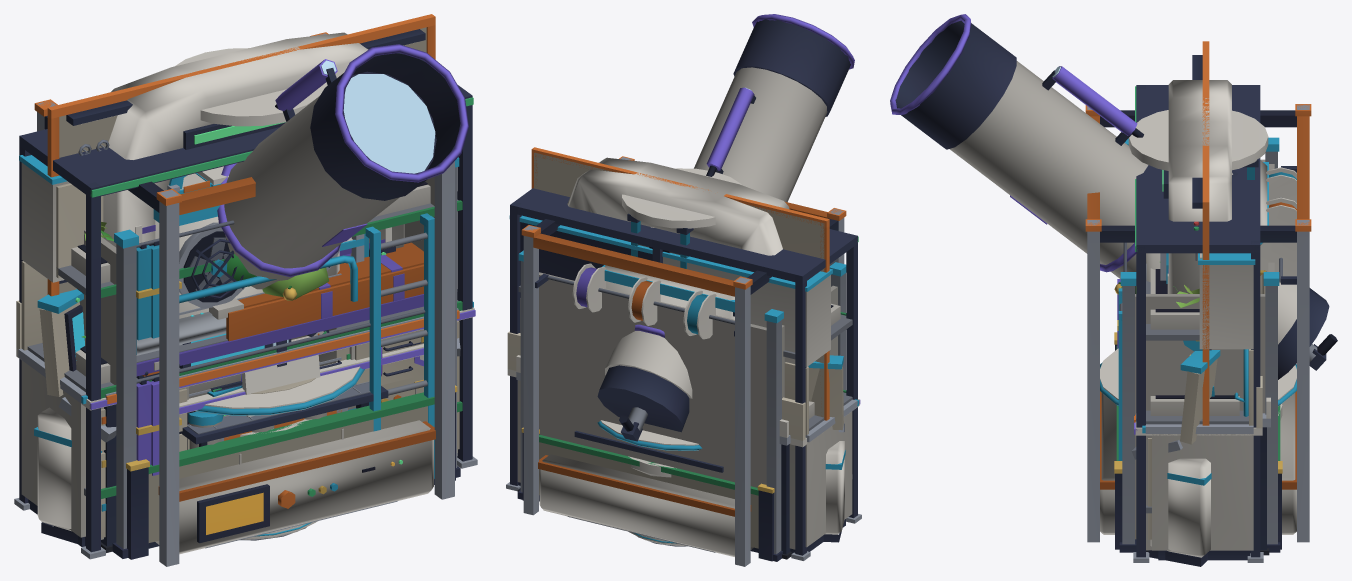
The model's file is interior_low.glb.
The picture shows the model from 3 angles, left to right: view 1: azimuth 30°, elevation 25°; view 2: azimuth 150°, elevation 25°; view 3: azimuth 270°, elevation 25°; orthographic projection. The views are drawn at different scales.
Parts seen in each view (by area): view 1: printer_3d, telescope, bunk_bed, plant_rack, airlock_door, galley, garden_bed, cockpit_console, tool_wall, air_machine, workbench, table_round (+7 smaller); view 2: printer_3d, bunk_bed, telescope, plant_rack, galley, airlock_door, tool_wall, garden_bed, cockpit_console, hatch_ladder, lab_bench, air_machine (+2 smaller); view 3: telescope, printer_3d, plant_rack, galley, bunk_bed, airlock_door, cockpit_console, hatch_ladder, tool_wall, garden_bed, table_round, workbench (+2 smaller).
Boxes of the visible parts, x1,y1,x2,y2 form: printer_3d: (34, 32, 454, 566); telescope: (217, 44, 468, 289); bunk_bed: (77, 157, 460, 558); plant_rack: (14, 85, 477, 559); airlock_door: (103, 32, 404, 257); galley: (18, 155, 473, 546); garden_bed: (126, 379, 457, 559); cockpit_console: (34, 289, 460, 546); tool_wall: (47, 14, 435, 296); air_machine: (153, 205, 341, 449); workbench: (101, 308, 459, 552); table_round: (195, 366, 364, 415); printer_3d: (521, 156, 846, 566); bunk_bed: (517, 250, 846, 561); telescope: (597, 14, 854, 441); plant_rack: (506, 188, 861, 560); galley: (509, 215, 858, 551); airlock_door: (567, 157, 789, 255); tool_wall: (531, 147, 829, 420); garden_bed: (521, 427, 774, 561); cockpit_console: (808, 355, 845, 542); hatch_ladder: (622, 168, 741, 268); lab_bench: (507, 331, 860, 553); air_machine: (602, 225, 734, 319); telescope: (890, 14, 1337, 379); printer_3d: (1085, 104, 1311, 542); plant_rack: (1133, 85, 1263, 562); galley: (1142, 253, 1255, 560); bunk_bed: (1117, 137, 1280, 552); airlock_door: (1162, 80, 1231, 293); cockpit_console: (1131, 350, 1220, 566); hatch_ladder: (1128, 110, 1268, 179); tool_wall: (1192, 41, 1209, 425); garden_bed: (1114, 332, 1282, 549); table_round: (1100, 348, 1296, 406); workbench: (1134, 397, 1270, 555).
Bounding box in the file's own units: 2.61 × 3.34 × 2.82.
